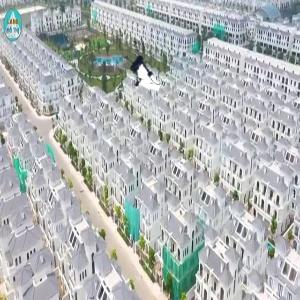drone: (113, 35, 169, 91)
